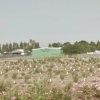Tree: (58, 32, 100, 60)
